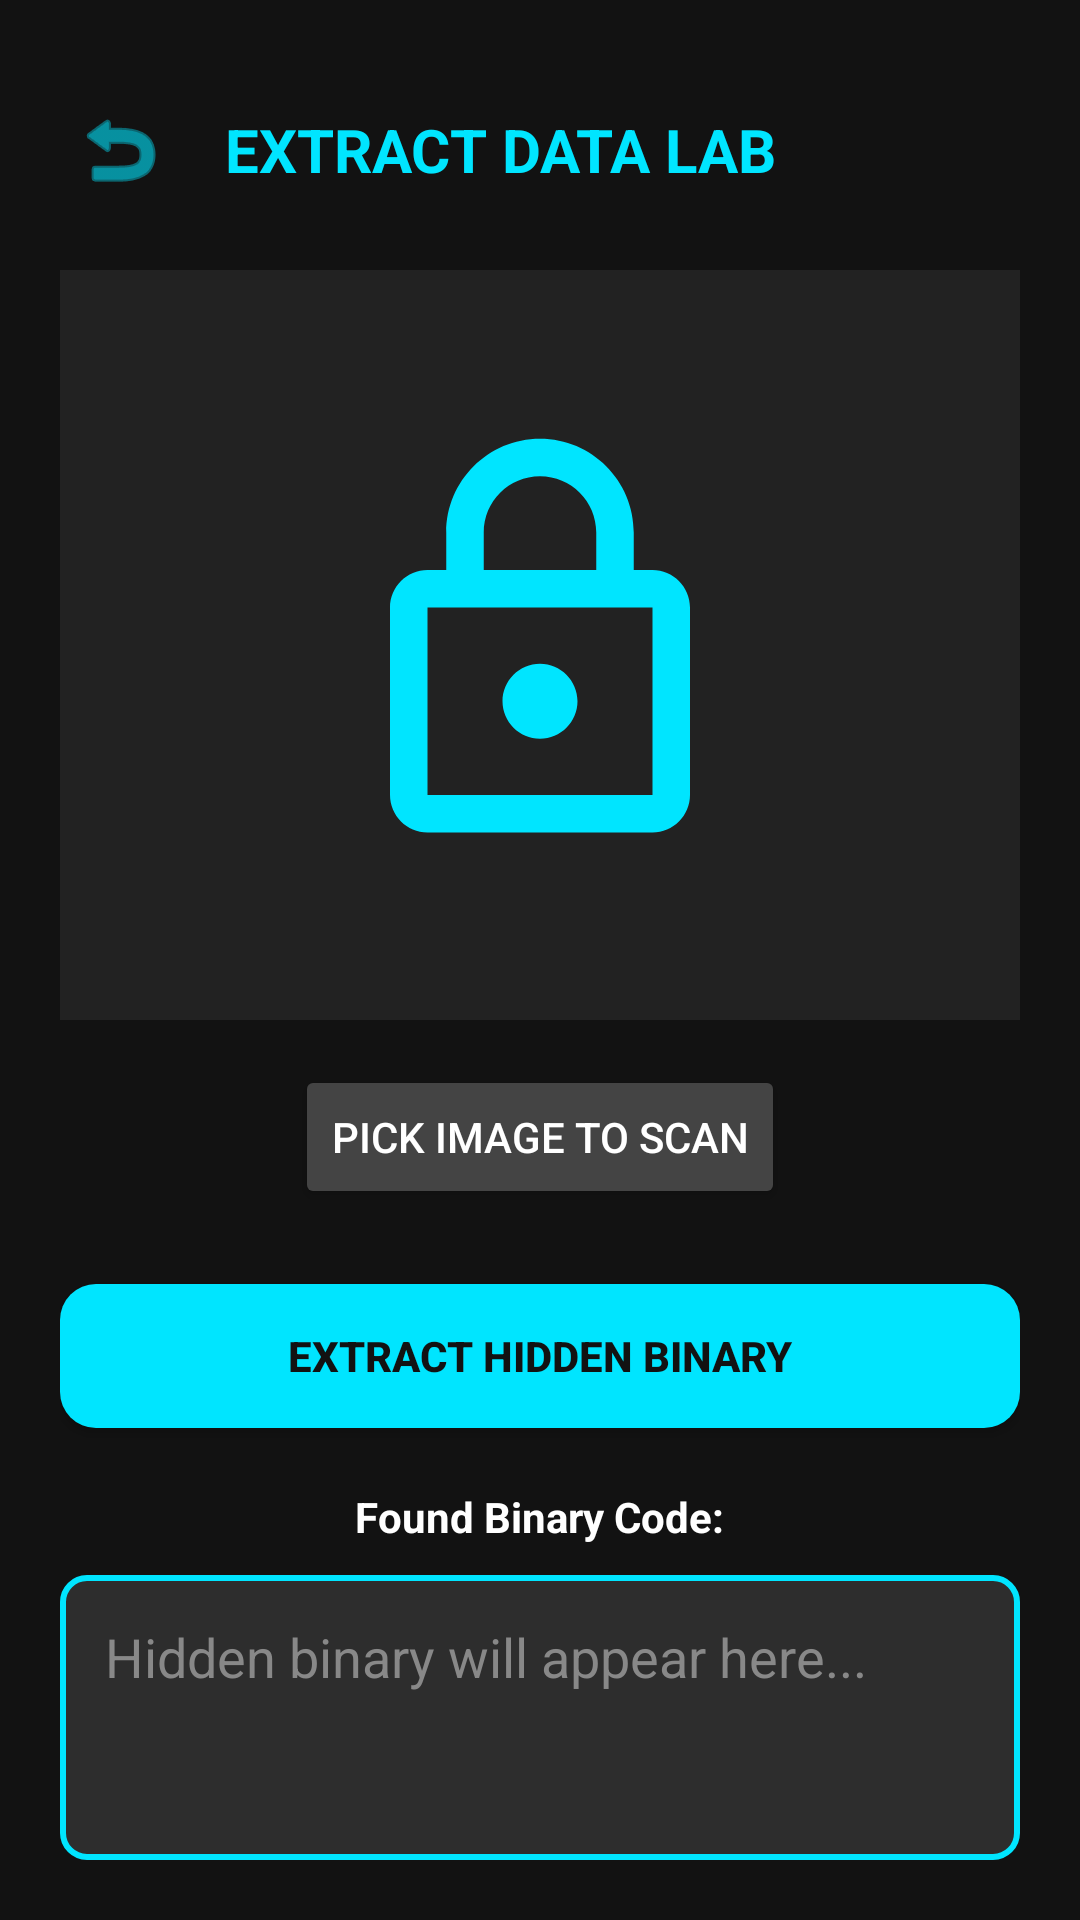

Locate icon controls on the screen. Image size 1080×1920, boxes as (x1, y1, x2, y2).
revert: (87, 119, 156, 182)
